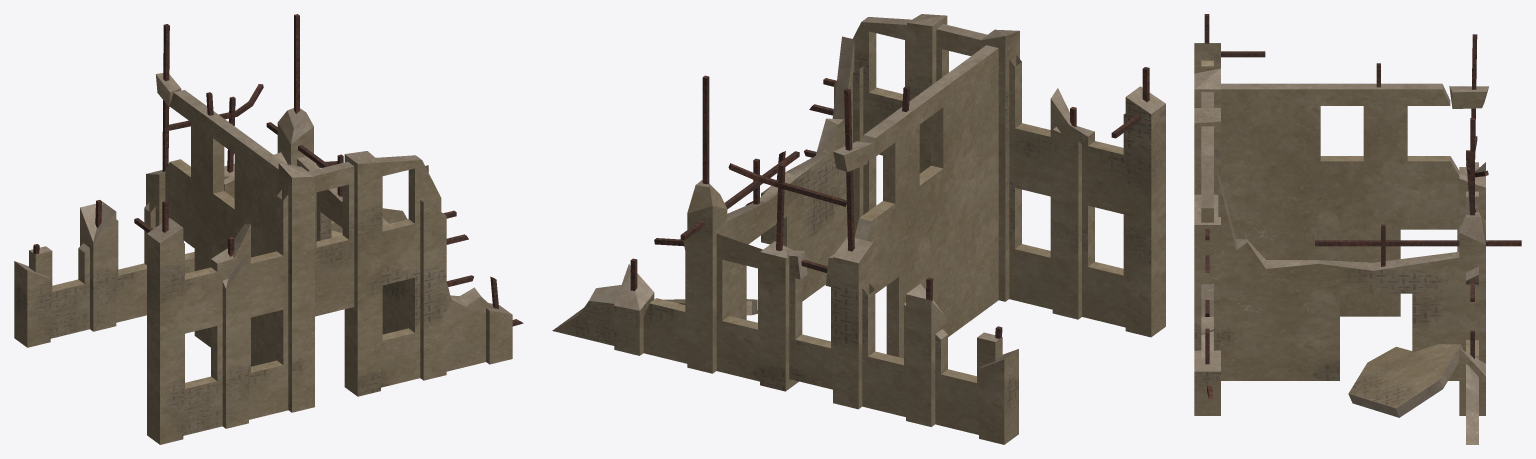
The model's file is SM_Lamppost_01.FBX.
The picture shows the model from 3 angles, left to right: view 1: azimuth 30°, elevation 25°; view 2: azimuth 150°, elevation 25°; view 3: azimuth 270°, elevation 25°; orthographic projection. The views are drawn at different scales.
Parts seen in each view (by area): view 1: SM_Ruin_01; view 2: SM_Ruin_01; view 3: SM_Ruin_01.
Boxes of the visible parts, x1,y1,x2,y2 form: SM_Ruin_01: (14, 14, 523, 444); SM_Ruin_01: (552, 14, 1165, 444); SM_Ruin_01: (1194, 14, 1521, 444).
Size of the model in its own units: 567 by 391 by 377.
